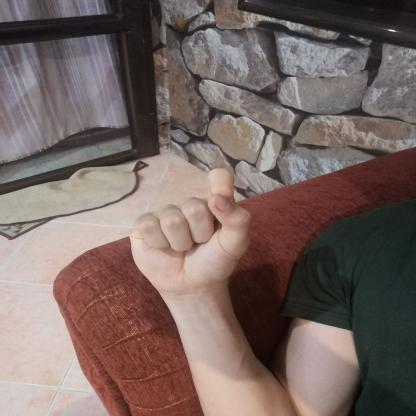FAA: (119, 159, 266, 305)
